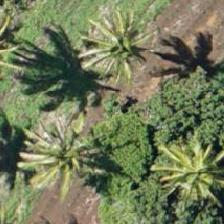coconut_tree: (20, 103, 110, 193), (78, 0, 168, 86), (164, 146, 223, 223)
